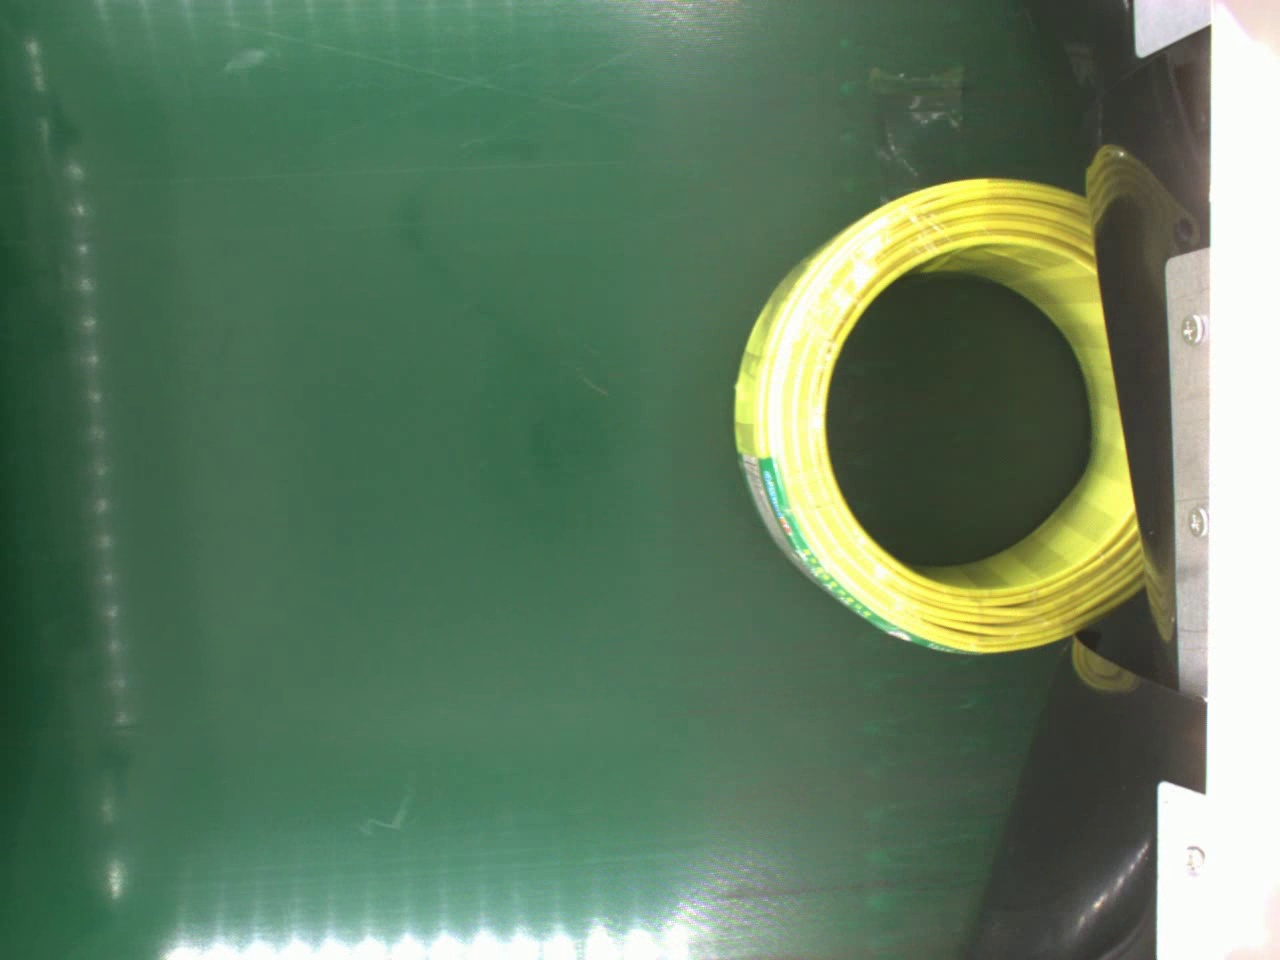yellow: (726, 174, 1141, 663)
